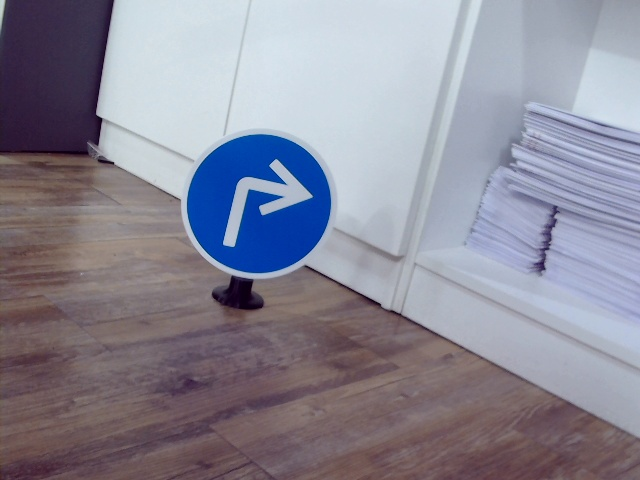turn_right: (223, 161, 312, 249)
